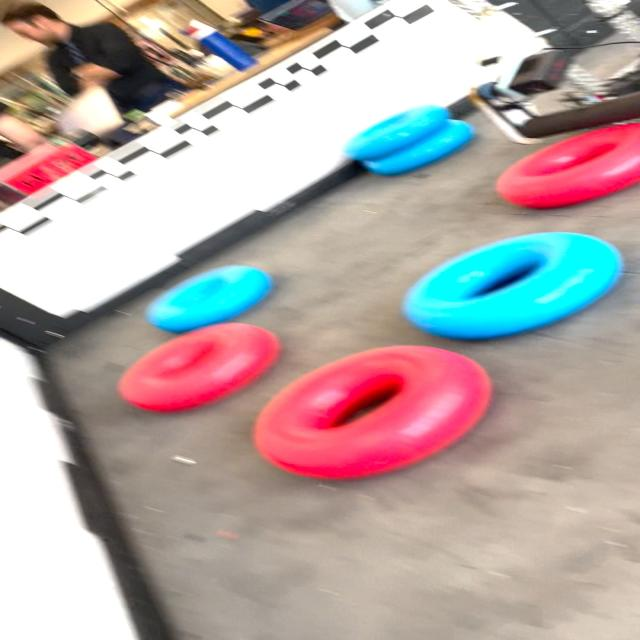Blue-Ring: (404, 232, 622, 339), (147, 265, 271, 332), (360, 120, 473, 175), (342, 105, 449, 160)
Red-Ring: (253, 345, 491, 479), (118, 322, 280, 411), (496, 124, 640, 209)
